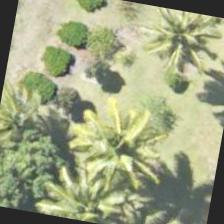Kelapa_Sawit: (69, 91, 173, 195), (127, 3, 223, 87), (40, 157, 140, 223)
